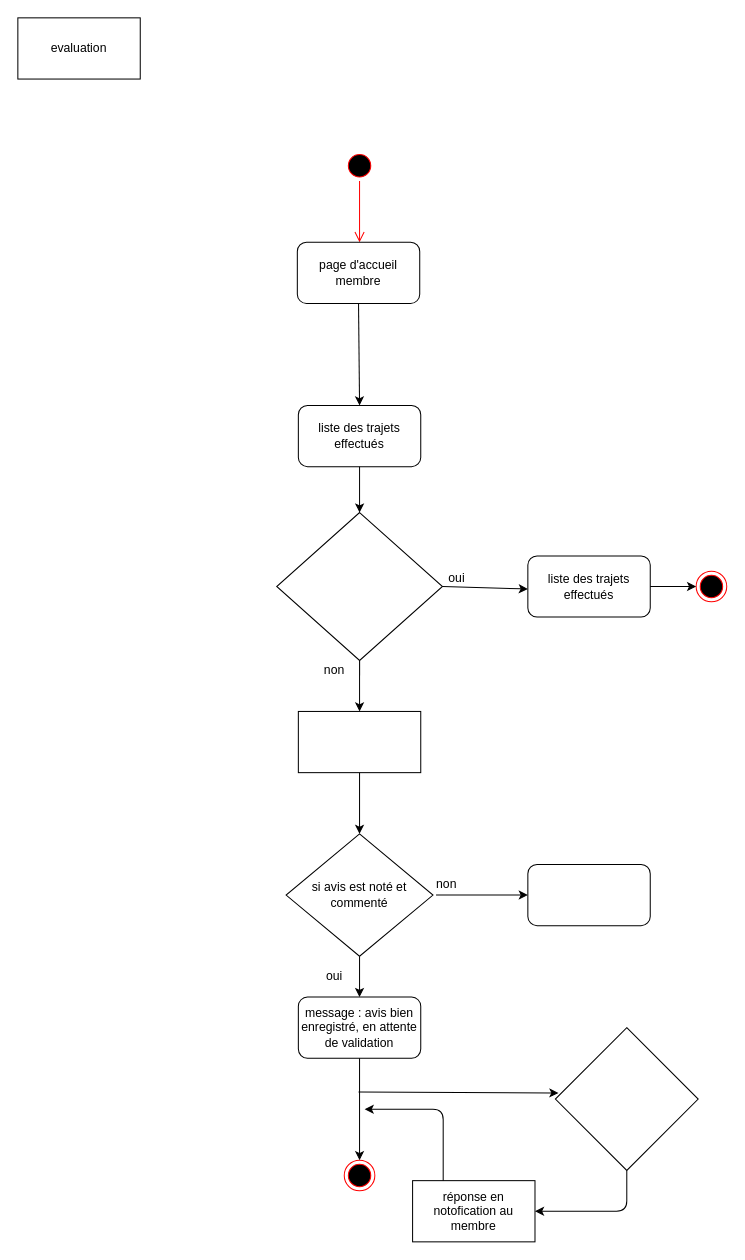
Some shapes in this 745 by 1260 pixel diagram are drawn without their labels. Each missing label, with the box of its shape:
message : veuillez commenter et noter le membre: (527, 863, 650, 926)
remplir note commentaire: (297, 710, 421, 773)
si admin valide ou non l'avis: (554, 1027, 698, 1170)
si trajet effectué est noté et commenté: (276, 512, 442, 660)
